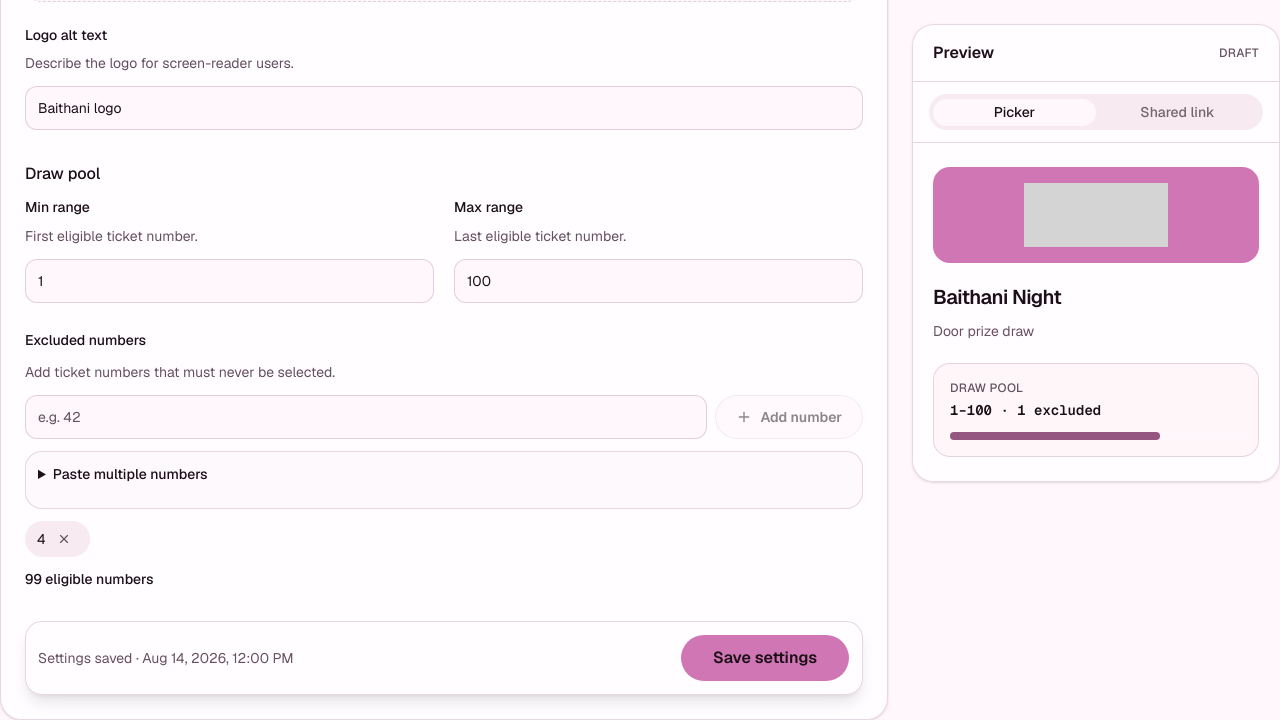
SettingsForm excluded-number editor › submits a valid unfinished draft instead of silently dropping it
The image size is (1280, 720).
(page scrolled)
Type "11" into the number field labelled "Excluded numbers" at [366, 417], box [25,395,707,439]
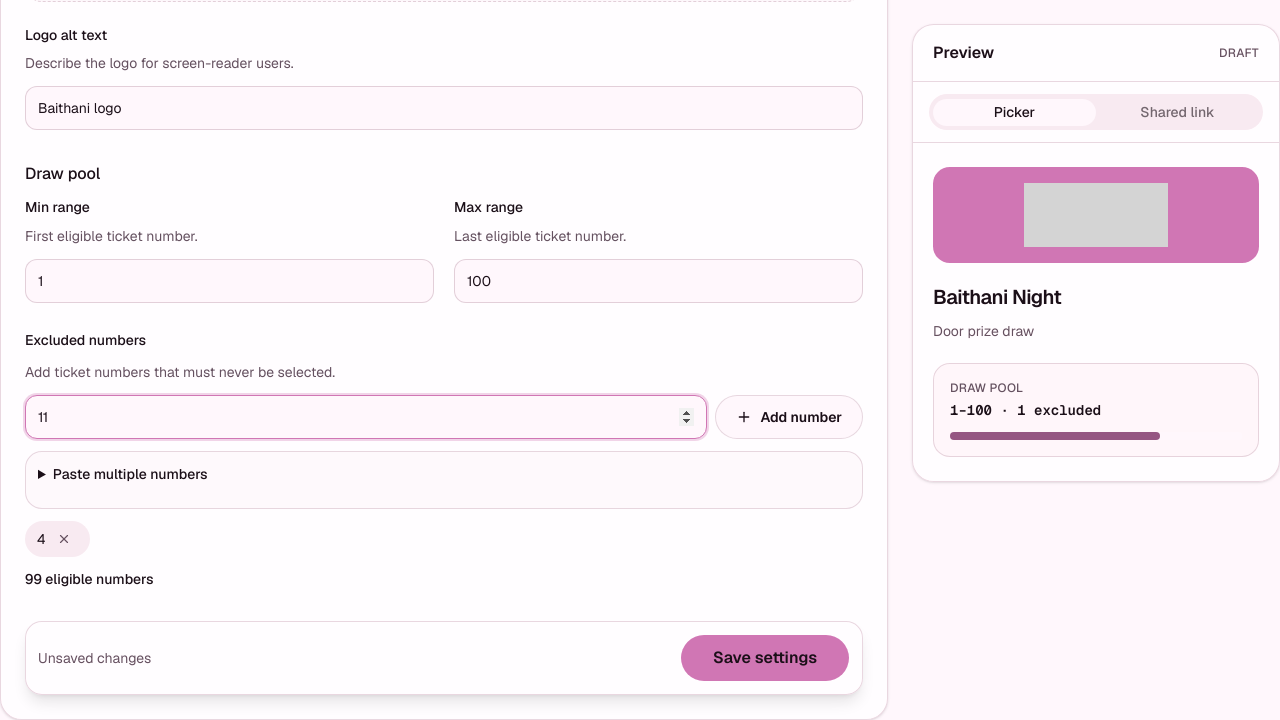
Click the button "Save settings" at [765, 658], box [680,634,850,682]
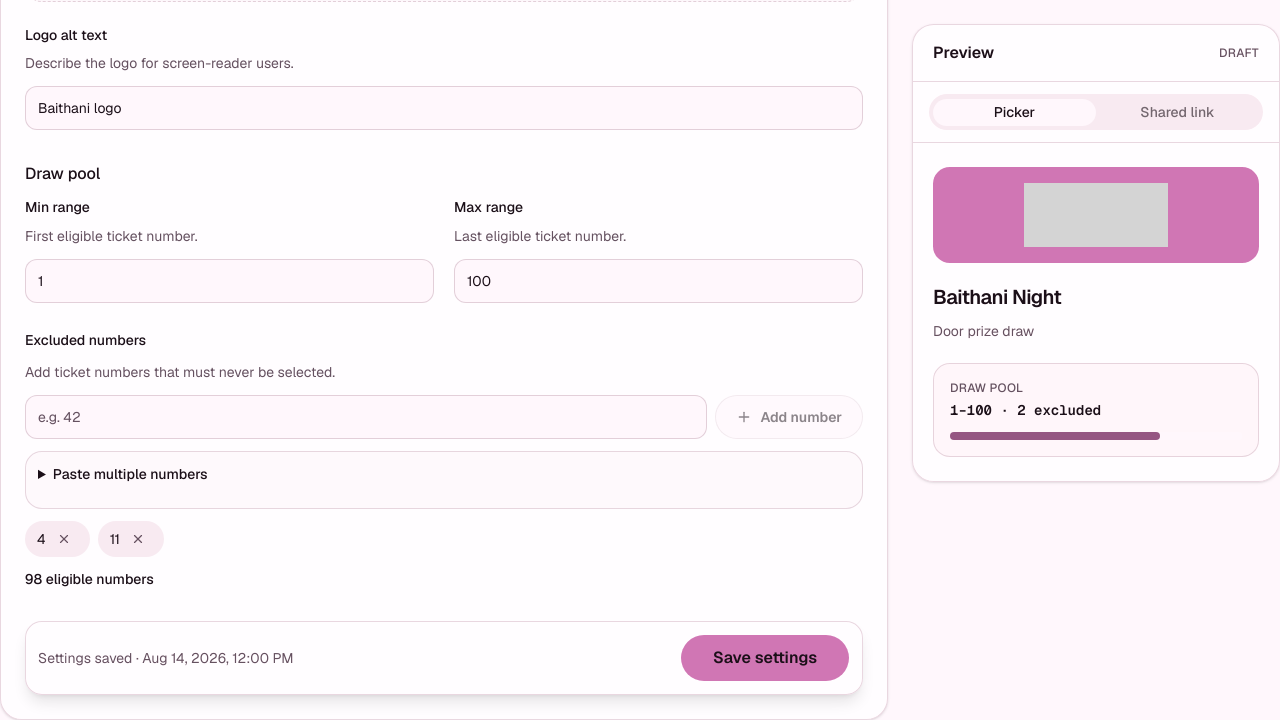
Now the button named "Remove 11" is shown, box [124,525,152,553]
